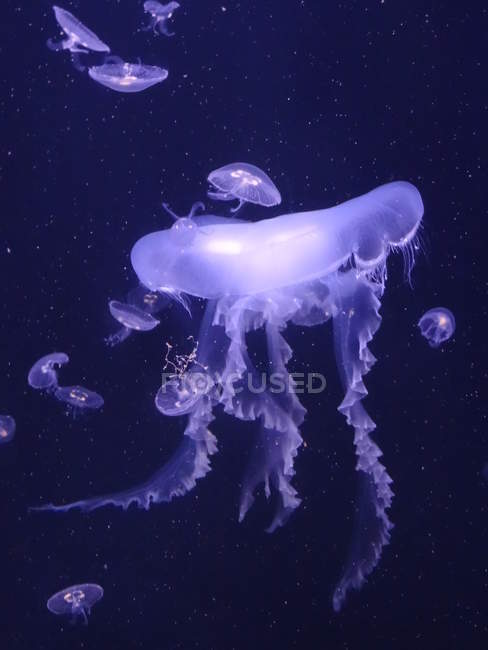jellyfish: (121, 210, 432, 528), (203, 156, 287, 222), (41, 1, 123, 56), (87, 56, 182, 98)
